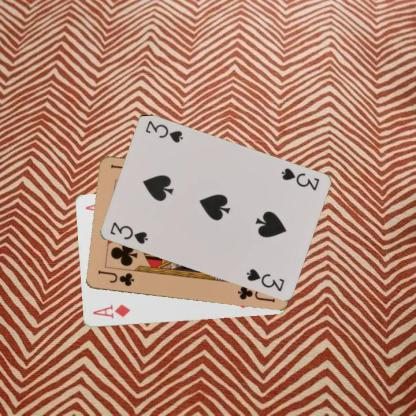3s: (107, 219, 149, 245), (278, 166, 320, 192)
Ad: (90, 302, 131, 320)
Jc: (95, 268, 135, 288)
